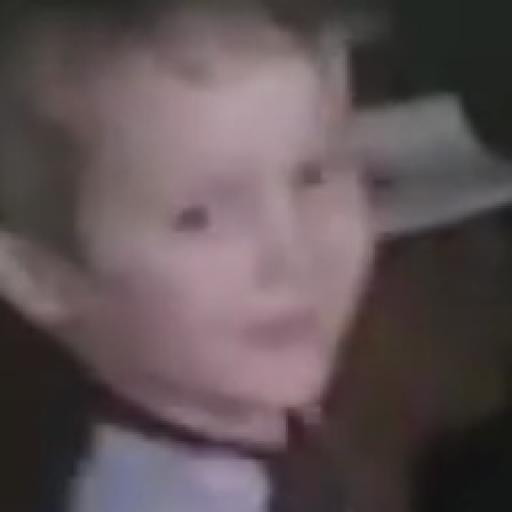Autism: (10, 0, 373, 435)
